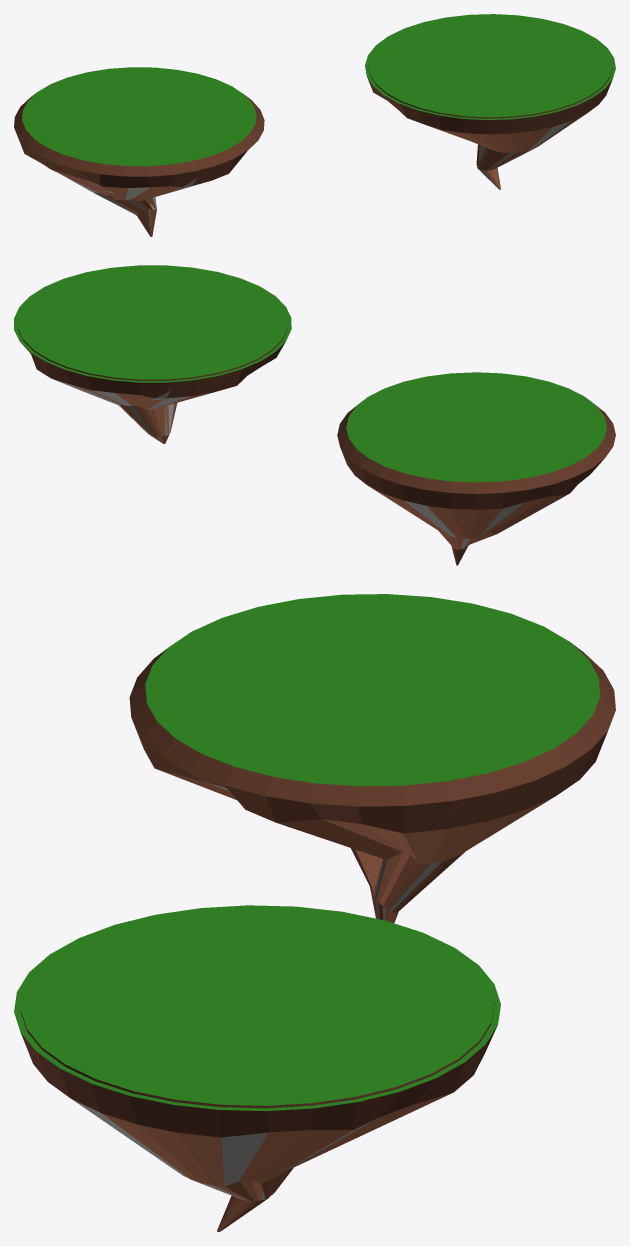
The model's file is grounds.fbx.
3 views of the same model, one above another, from view 1: azimuth 30°, elevation 25°; view 2: azimuth 150°, elevation 25°; view 3: azimuth 270°, elevation 25° (orthographic). The views are drawn at different scales.
Parts seen in each view (by area): view 1: Circle.002, Circle.001, Circle; view 2: Circle.002, Circle.001, Circle; view 3: Circle.002, Circle.001, Circle.
Part boxes in pixels (x1,y1,x2,y2): Circle.002: (14,67,264,236); Circle.001: (365,14,615,119); Circle: (365,14,615,189); Circle.002: (337,372,615,565); Circle.001: (14,265,291,382); Circle: (14,265,291,443); Circle.002: (129,594,615,923); Circle.001: (14,905,500,1110); Circle: (14,905,500,1231).
Size of the model in its own units: 495 by 111 by 247.
